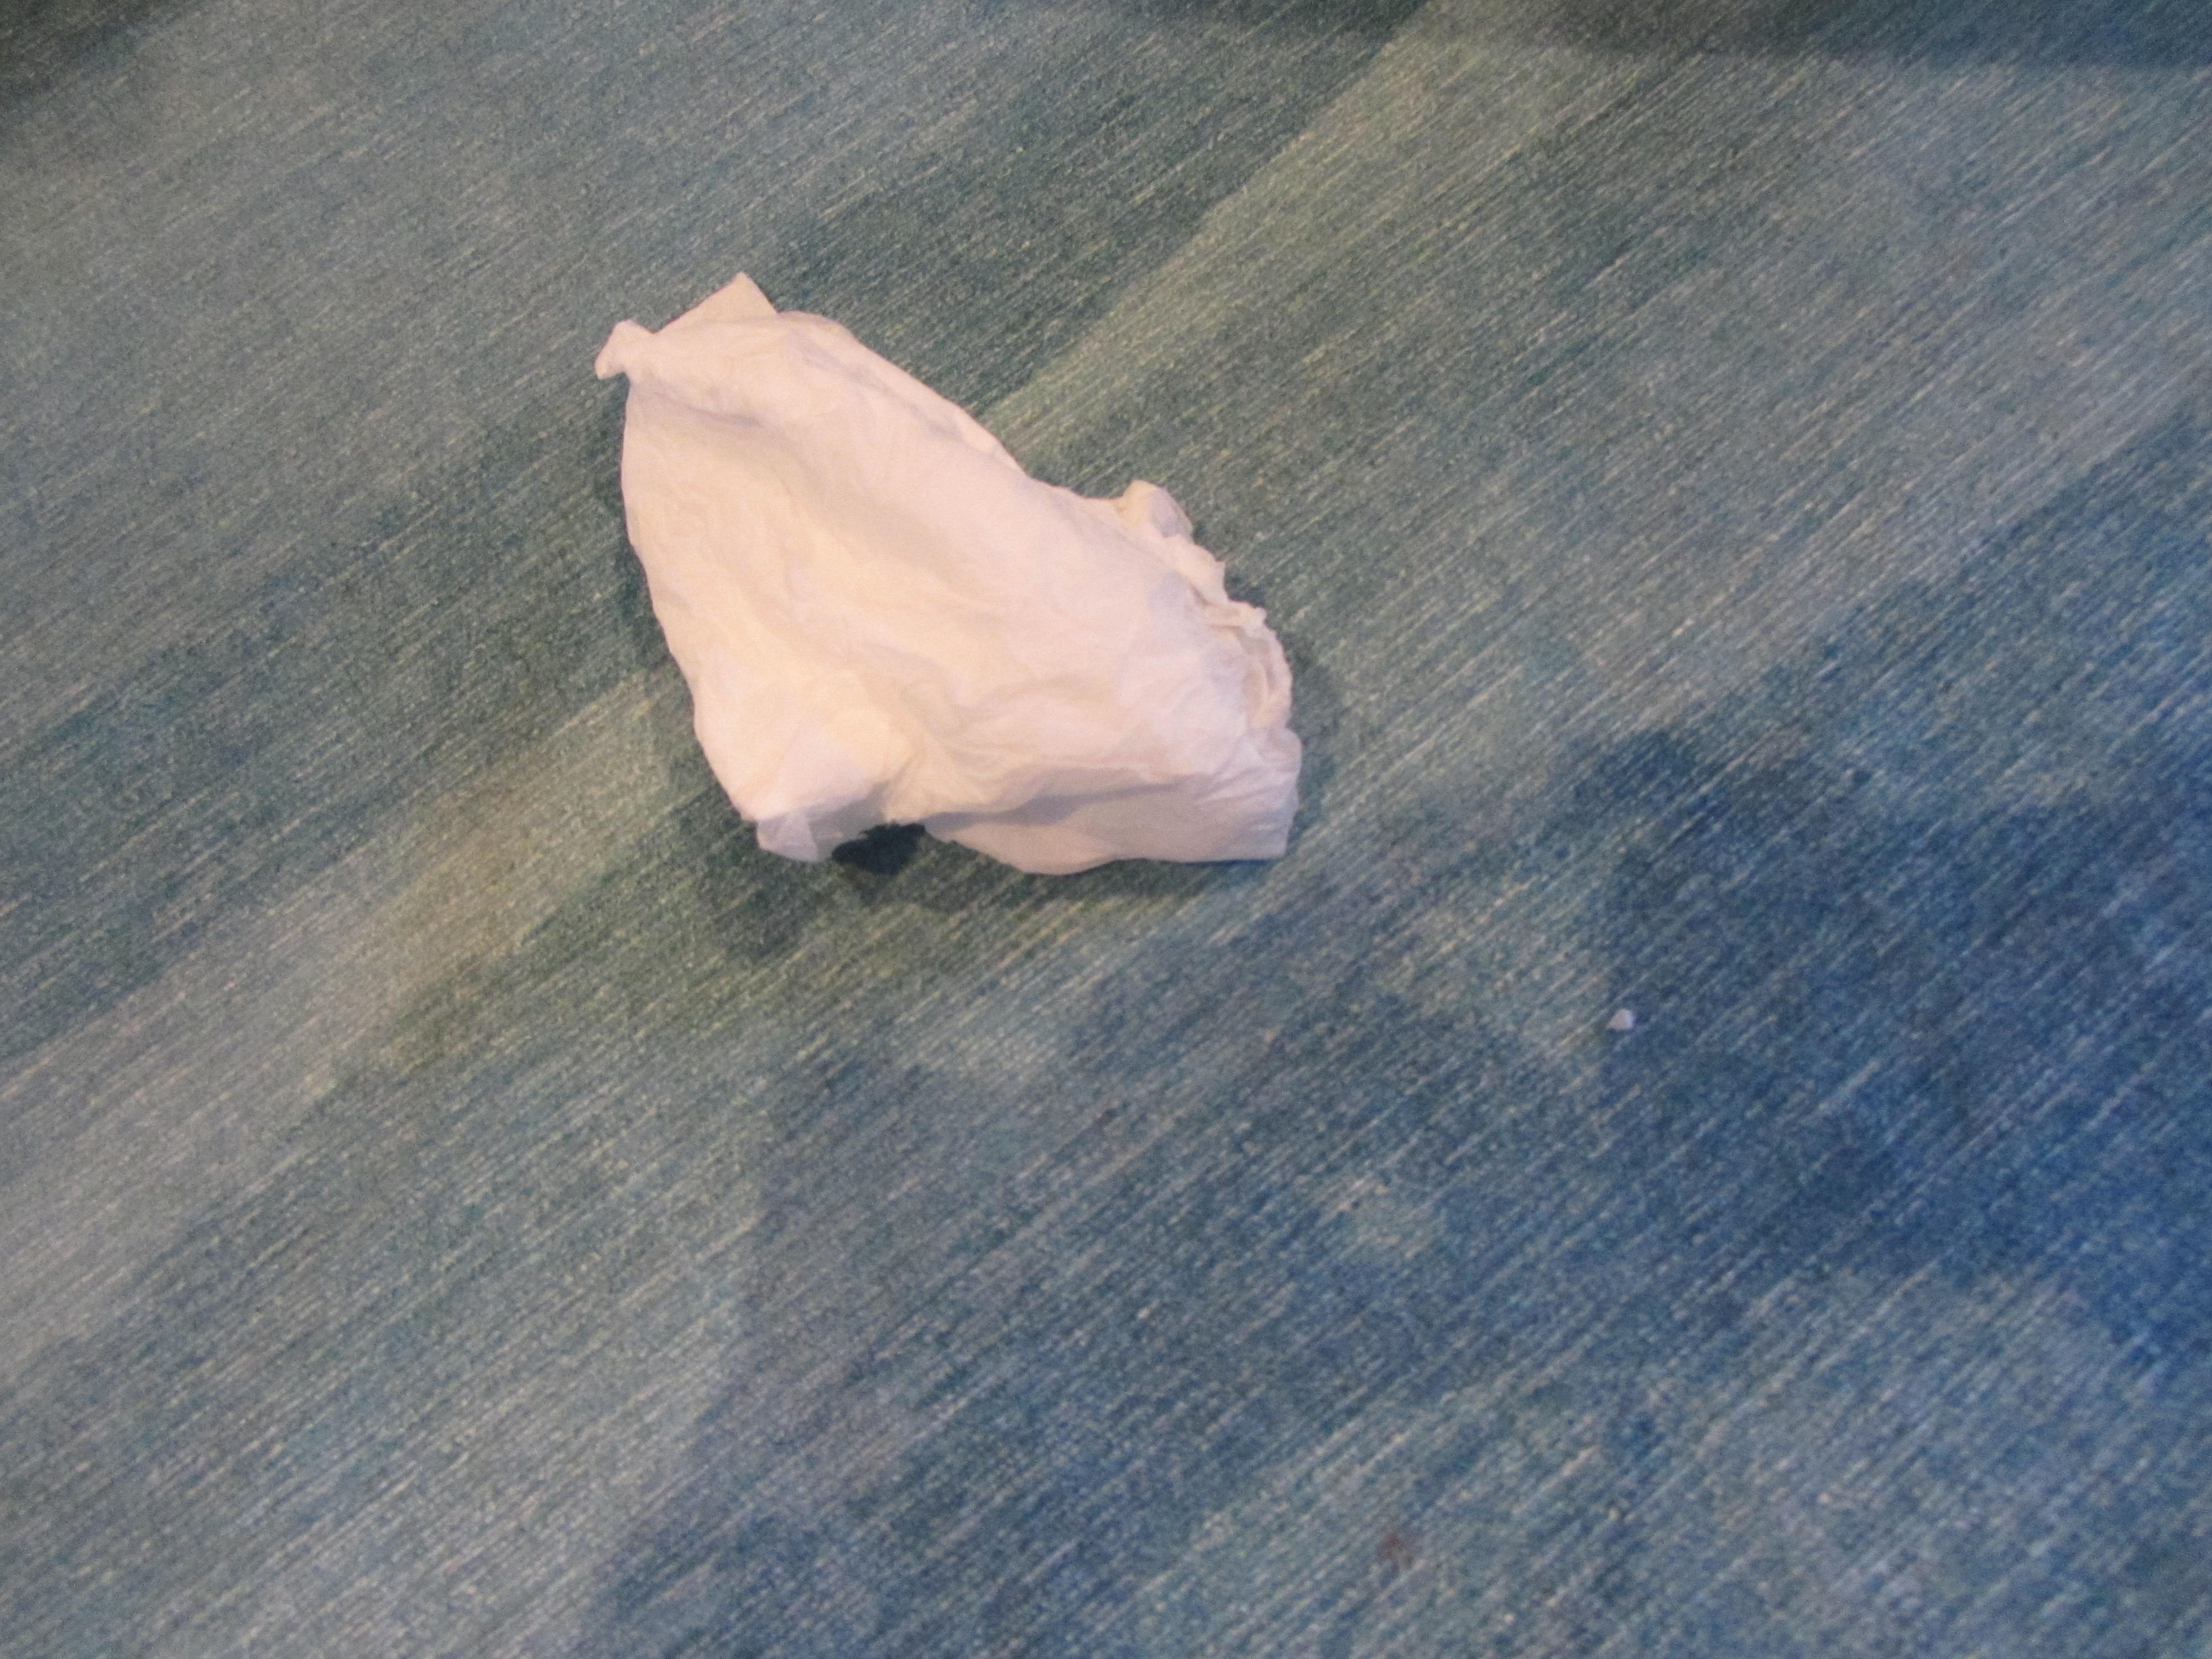tissue: (578, 261, 1310, 868)
